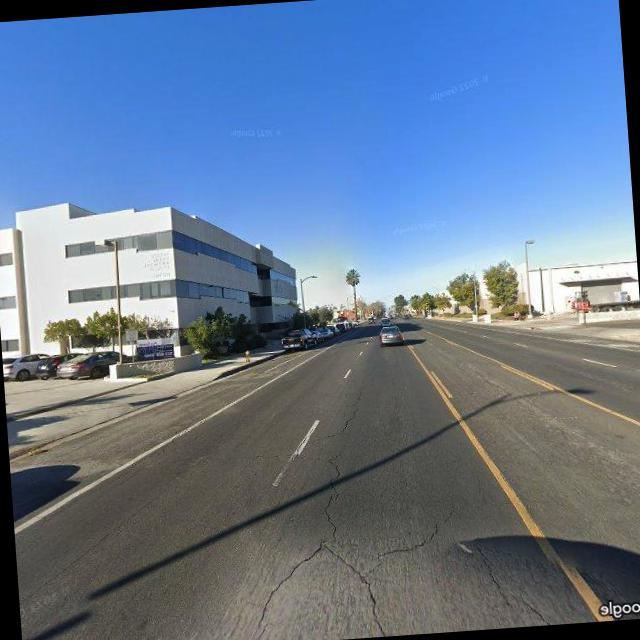crack: (193, 508, 620, 640), (292, 375, 375, 536)
